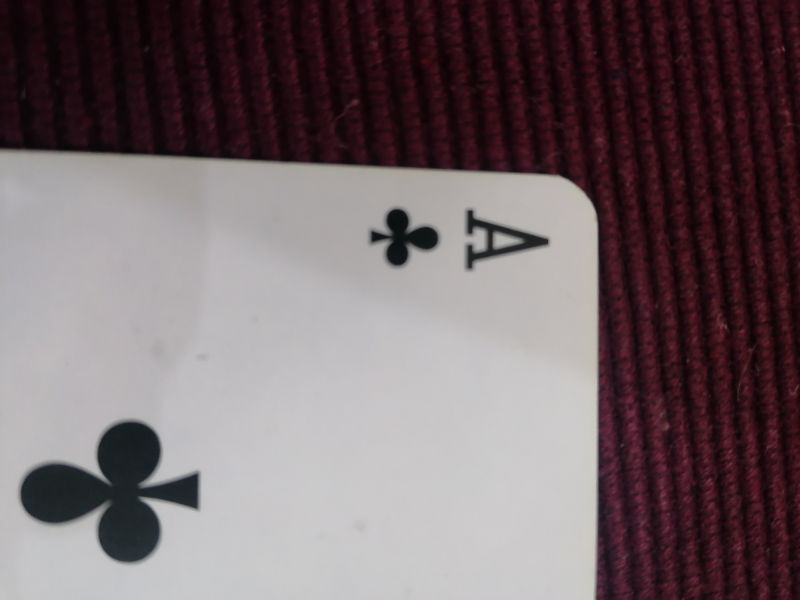Ac: (359, 189, 555, 278)
